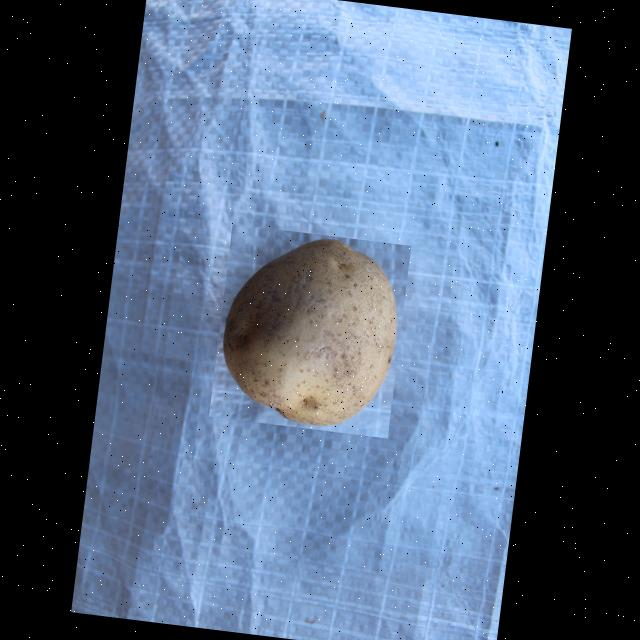Diseased-fungal potato: (208, 223, 410, 438)
